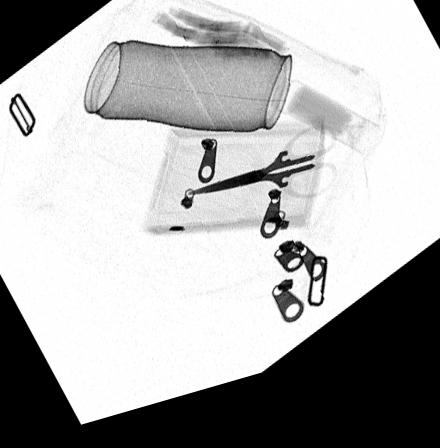Scissors: (187, 140, 339, 219)
